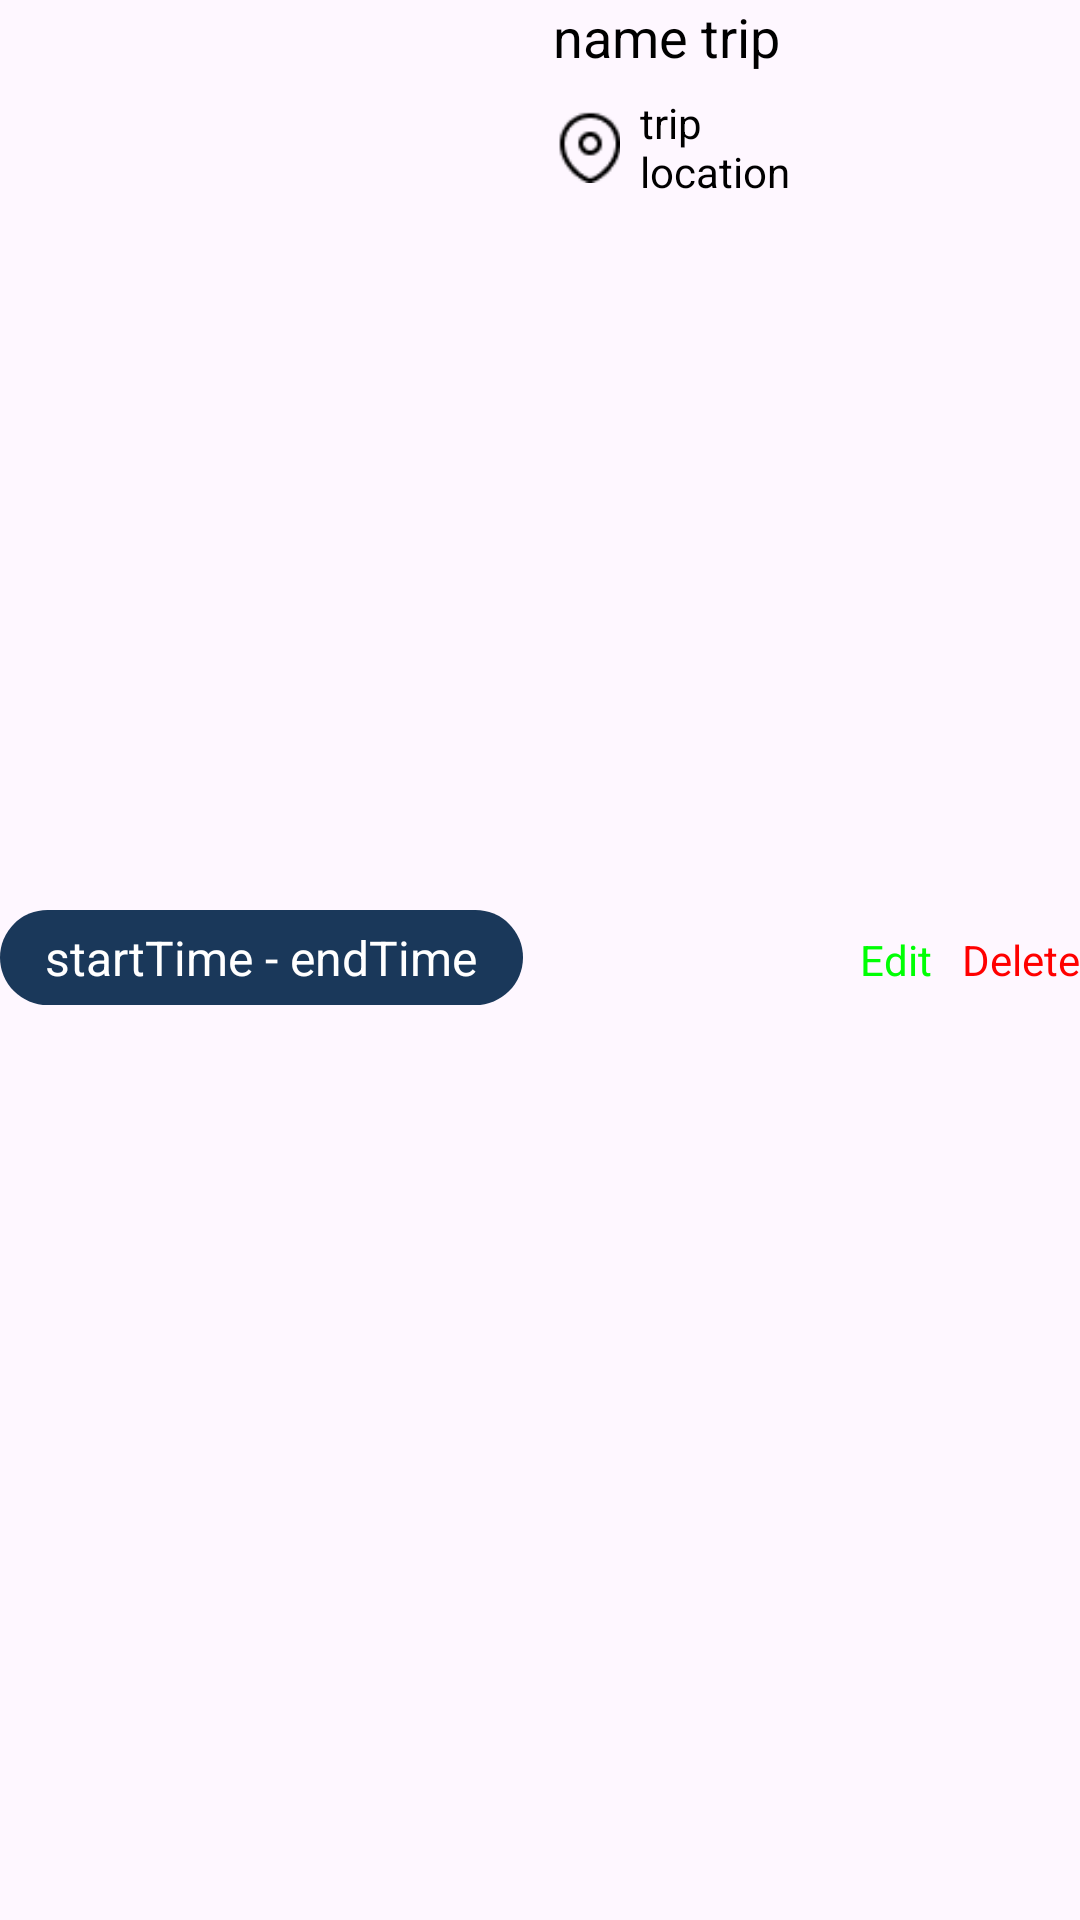

Icons on this 1080 × 1920 Android screen, each with the point to tap as point (x, y):
loc: point (589, 147)
